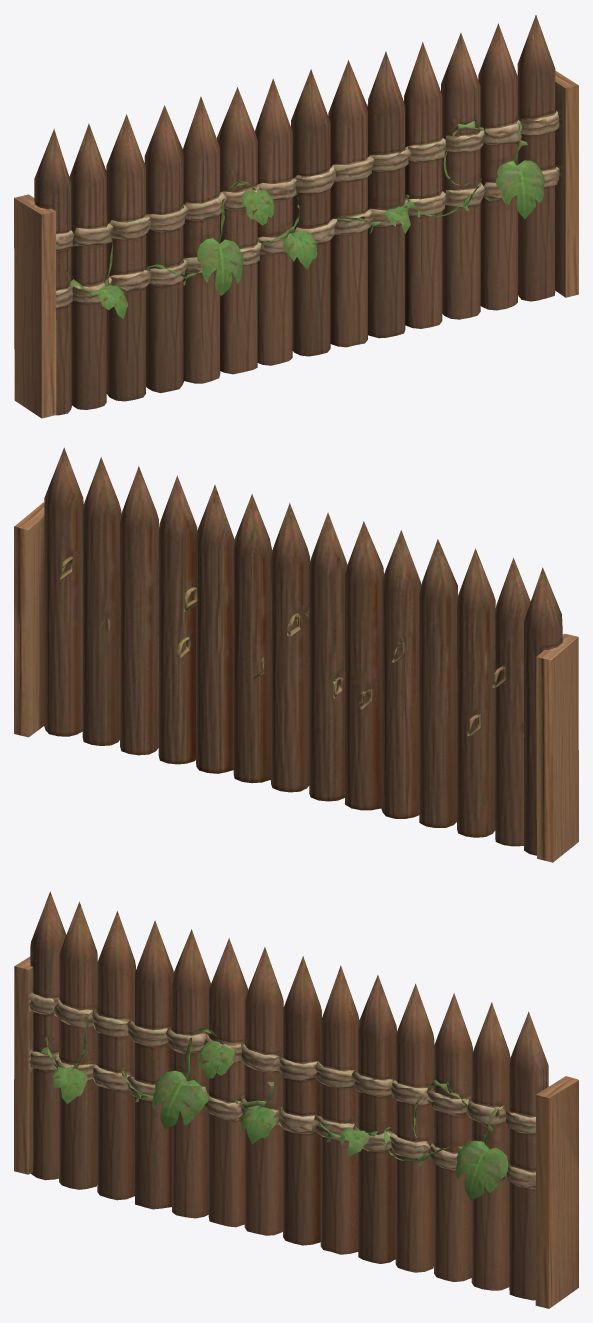
The model's file is playa_empalizada.glb.
3 renders of one model, top to bottom at view 1: azimuth 30°, elevation 25°; view 2: azimuth 150°, elevation 25°; view 3: azimuth 330°, elevation 25°, orthographic.
Parts seen in each view (by area): view 1: tripo_node_9069d3a9-4016-48f7-99a3-302350c6a9c0; view 2: tripo_node_9069d3a9-4016-48f7-99a3-302350c6a9c0; view 3: tripo_node_9069d3a9-4016-48f7-99a3-302350c6a9c0.
Part boxes in pixels (left/top/right/bottom): tripo_node_9069d3a9-4016-48f7-99a3-302350c6a9c0: left=14, top=15, right=578, bottom=418; tripo_node_9069d3a9-4016-48f7-99a3-302350c6a9c0: left=14, top=447, right=578, bottom=862; tripo_node_9069d3a9-4016-48f7-99a3-302350c6a9c0: left=14, top=891, right=578, bottom=1308.
Size of the model in its own units: 0.9995 by 0.4995 by 0.1431.
Materials: 1 (1 with a texture image).
